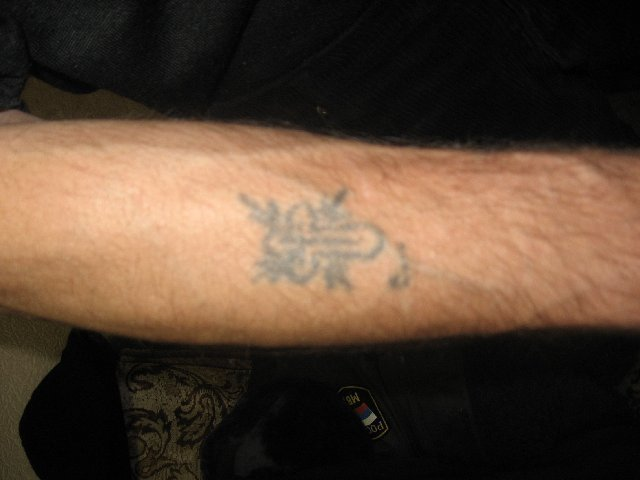tatu9_krest: (257, 193, 383, 279)
